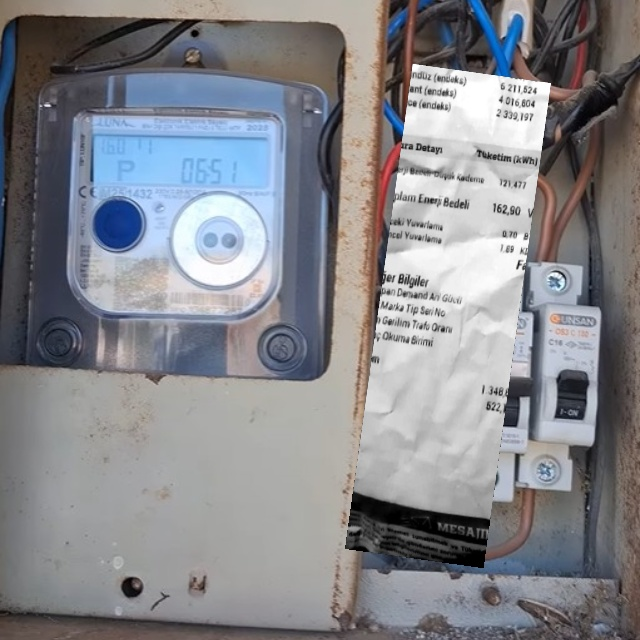electricity-bill: (345, 64, 551, 568)
